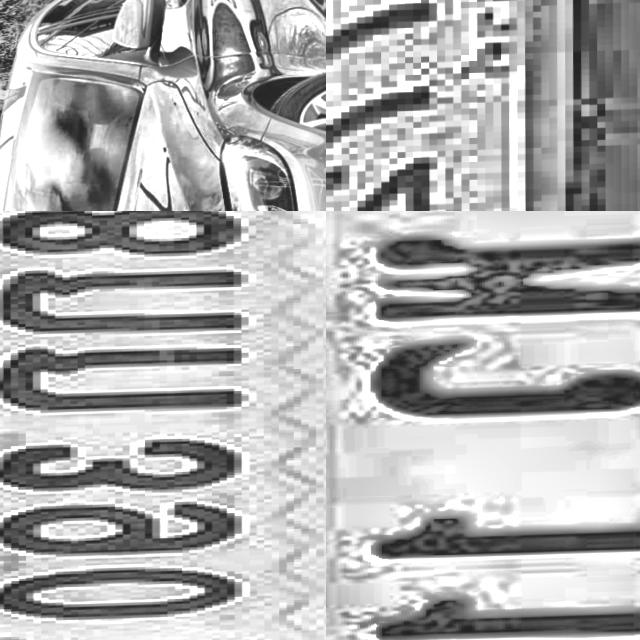license-plate: (0, 211, 326, 640), (326, 211, 640, 640), (326, 0, 581, 211)
